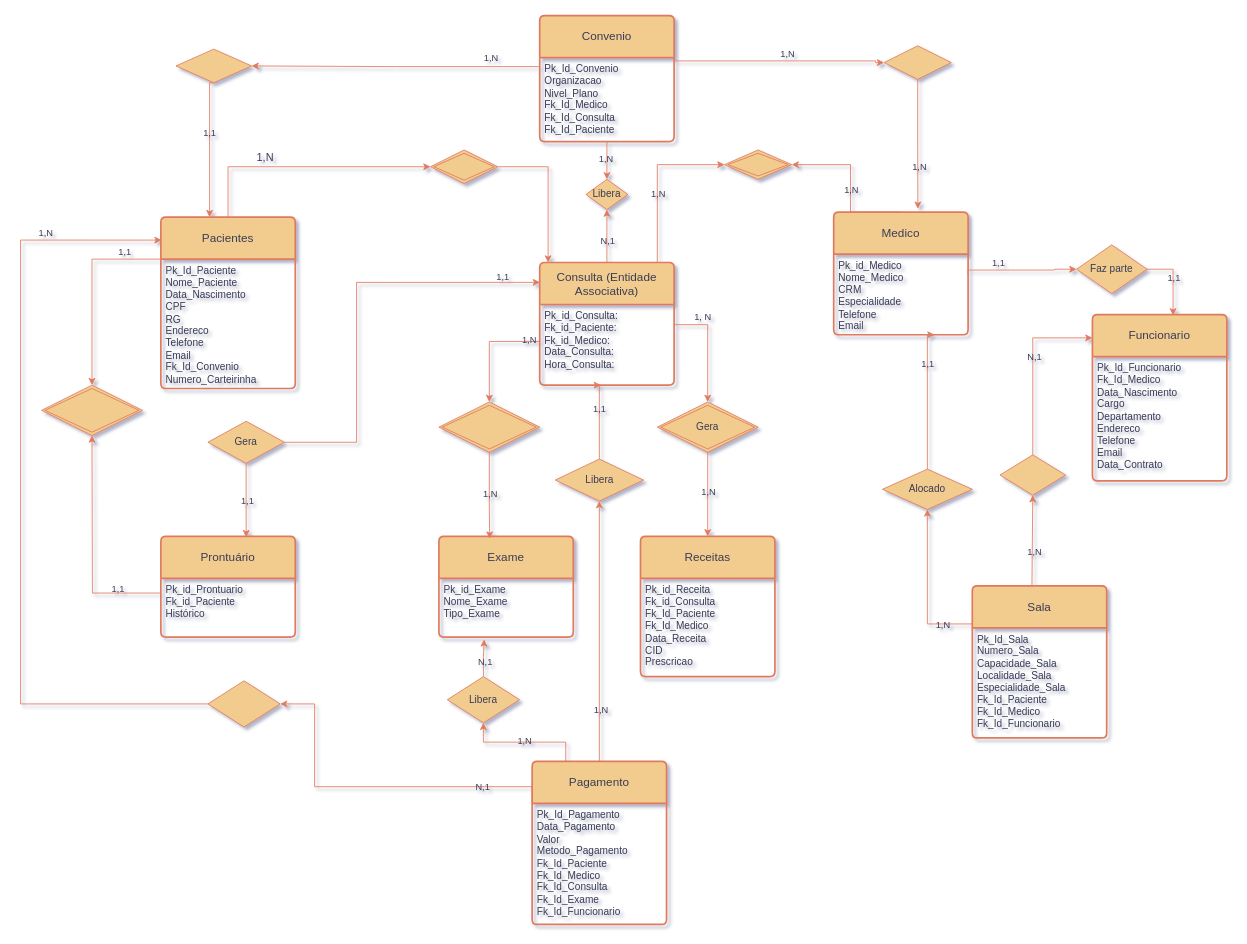
This 1247x944 diagram has some shape labels left out. Each missing label, with the centre of its shape:
"Alocar" goes at point (1032, 474).
"Associado" goes at point (917, 62).
"Atende" goes at point (758, 164).
"Atendido" goes at point (464, 166).
"Encaminha" goes at point (489, 426).
"Passa/Atende" goes at point (213, 65).
"Possui" goes at point (91, 410).
"Verifica" goes at point (243, 703).
